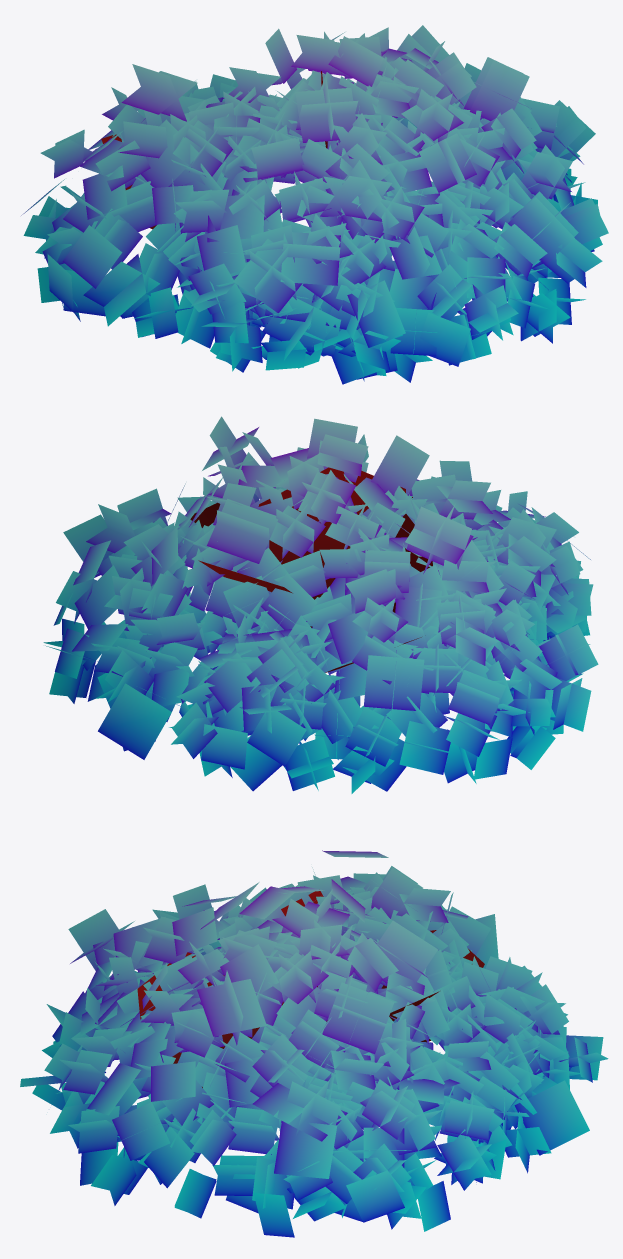
The model's file is SM_Env_Bush_02.glb.
3 views of the same model, one above another, from view 1: azimuth 30°, elevation 25°; view 2: azimuth 150°, elevation 25°; view 3: azimuth 270°, elevation 25° (orthographic).
Visible parts, largest first — view 1: SM_Env_Bush_02_Leaves_LOD0; view 2: SM_Env_Bush_02_Leaves_LOD0, SM_Env_Bush_02_Branches_LOD0; view 3: SM_Env_Bush_02_Leaves_LOD0, SM_Env_Bush_02_Branches_LOD0.
Boxes of the visible parts, left/top/right/bottom form: SM_Env_Bush_02_Leaves_LOD0: left=21, top=25, right=608, bottom=384; SM_Env_Bush_02_Leaves_LOD0: left=43, top=416, right=598, bottom=793; SM_Env_Bush_02_Branches_LOD0: left=190, top=467, right=432, bottom=672; SM_Env_Bush_02_Leaves_LOD0: left=20, top=850, right=608, bottom=1237; SM_Env_Bush_02_Branches_LOD0: left=137, top=891, right=484, bottom=1087.
Size of what is drawn, in the model's own units: 4.95 by 2.33 by 4.7.
